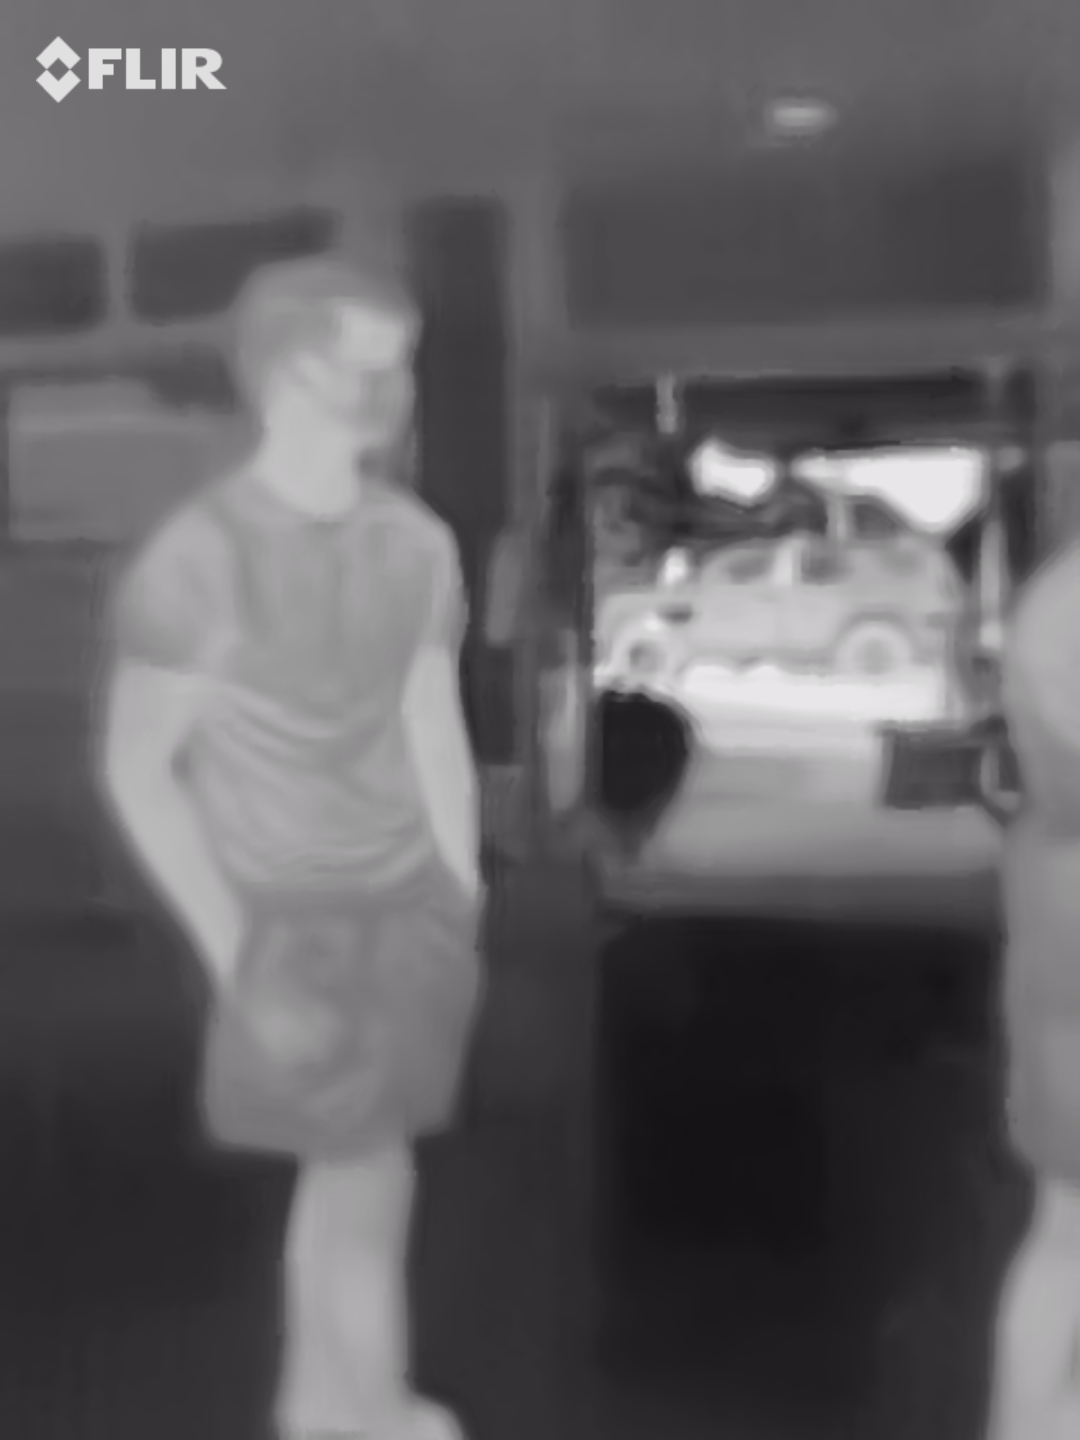head: (218, 259, 441, 472)
